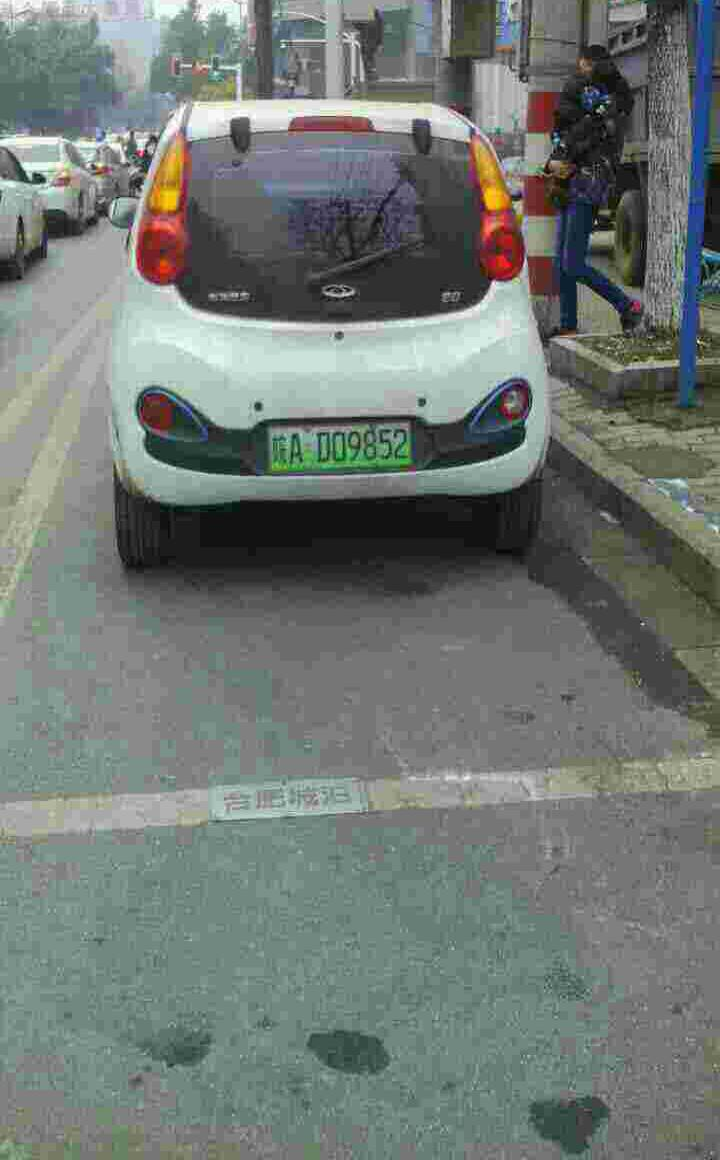car: (264, 421, 421, 471)
